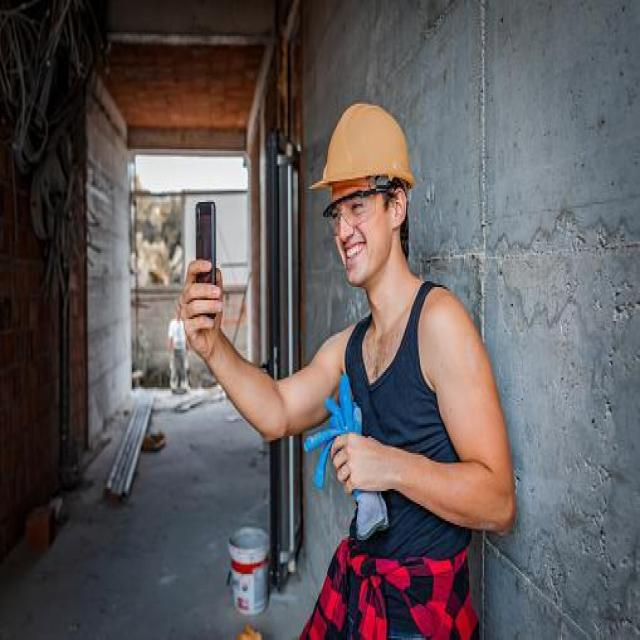helmet: (308, 100, 415, 195)
